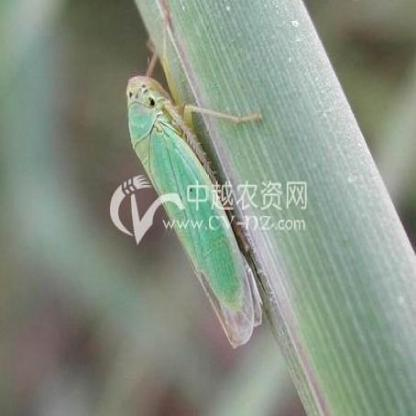Green-Leafhopper: (126, 28, 265, 357)
